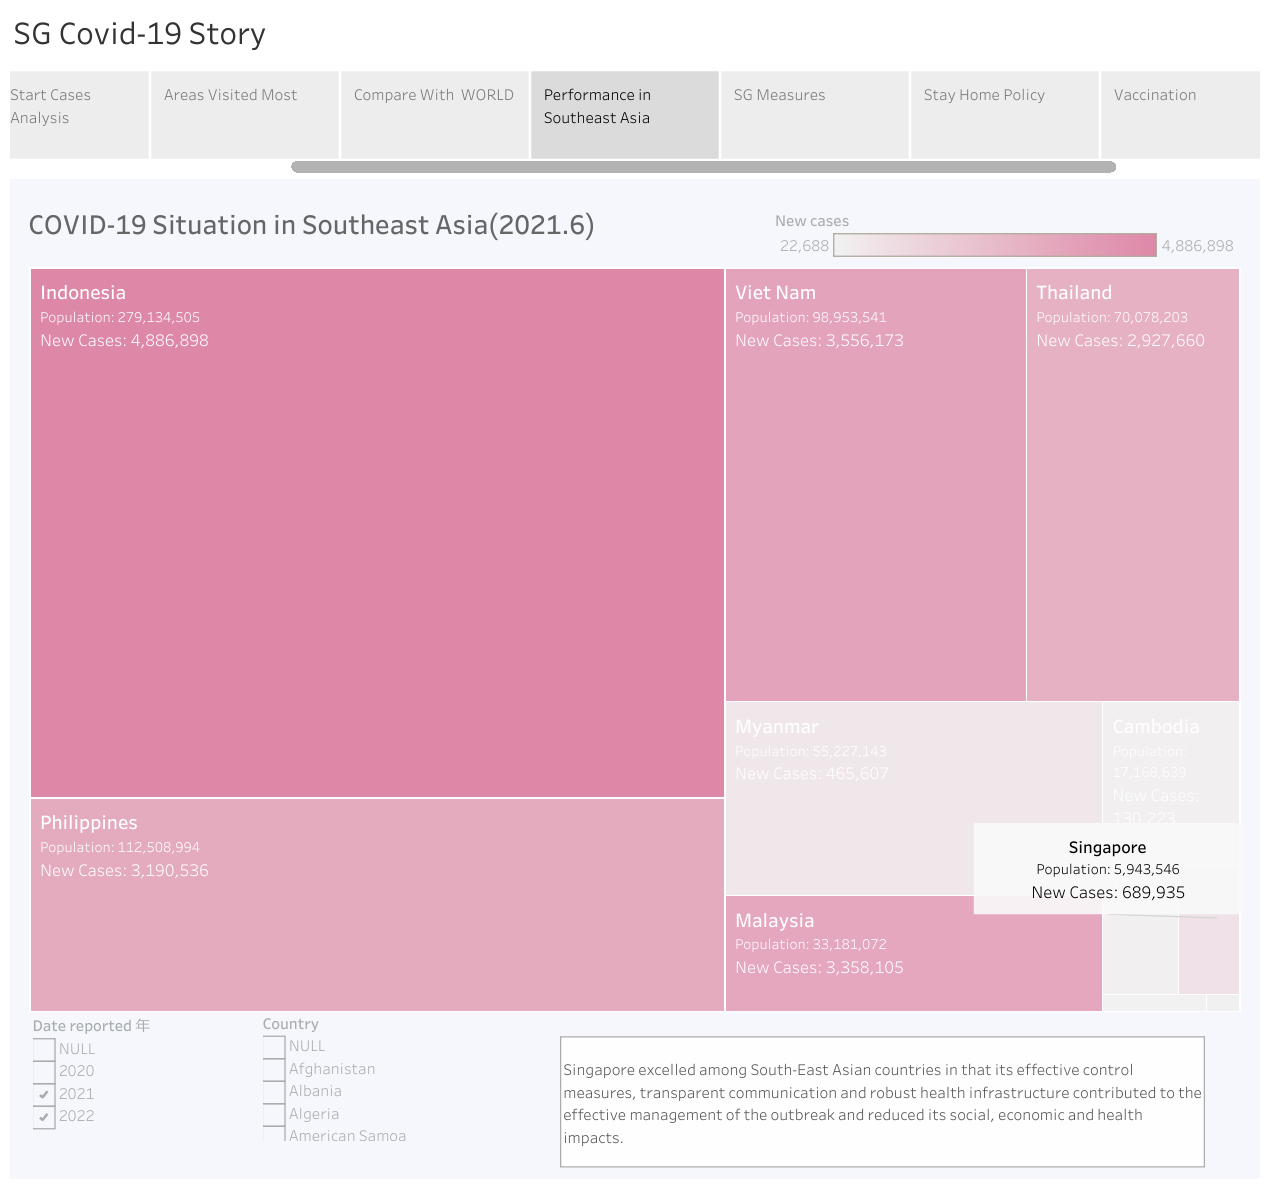

The dashboard page shown, as its layout file describes it:
{"tool":"tableau","page":{"name":"SOUTHASIA\\","canvas":[1000,800],"ordinal":4},"visuals":[{"type":"text","box":[8,8,984,55]},{"type":"legend","title":"Cases SoutheastAsia","param":"[federated.0q2fju4063dfwk11bpw6k0k4p5ar].[sum:New_cases:qk]","box":[612,20,372,88]},{"type":"worksheet","title":"Cases SoutheastAsia","mark":"Automatic","box":[8,63,984,729]},{"type":"filter","title":"Cases SoutheastAsia","param":"[federated.0q2fju4063dfwk11bpw6k0k4p5ar].[none:Country:nk]","box":[202,665,168,105]},{"type":"filter","title":"Cases SoutheastAsia","param":"[federated.0q2fju4063dfwk11bpw6k0k4p5ar].[yr:Date_reported:ok]","box":[18,667,168,105]}]}

Visuals, with their boxes on the page's 1000x800 design canvas (x1, y1, x2, y2). These are canvas units, not pixel positions in the 1269x1204 screenshot, which may show the page scaled, cropped or inside an application window:
text: (left=8, top=8, right=992, bottom=63)
"Cases SoutheastAsia" legend: (left=612, top=20, right=984, bottom=108)
"Cases SoutheastAsia" worksheet: (left=8, top=63, right=992, bottom=792)
"Cases SoutheastAsia" filter: (left=202, top=665, right=370, bottom=770)
"Cases SoutheastAsia" filter: (left=18, top=667, right=186, bottom=772)
